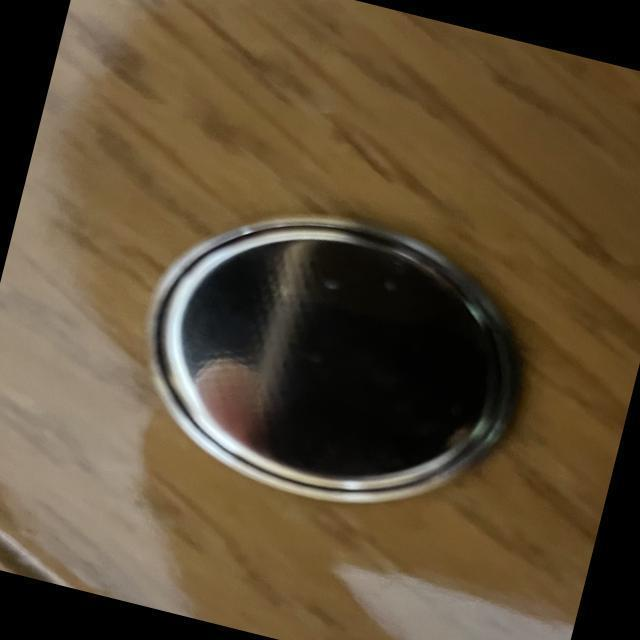COIN: (112, 178, 558, 545)
